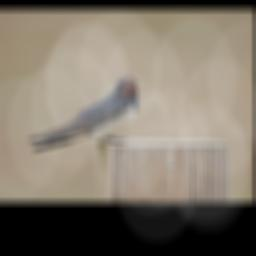Swallow: (0, 74, 140, 162)
